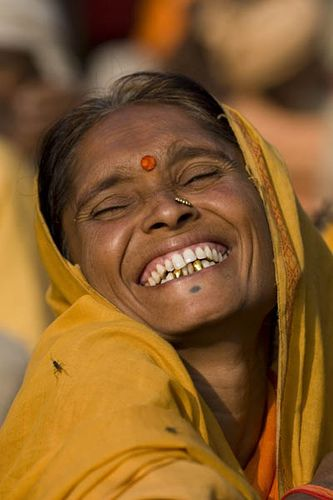happy: (55, 123, 285, 337)
